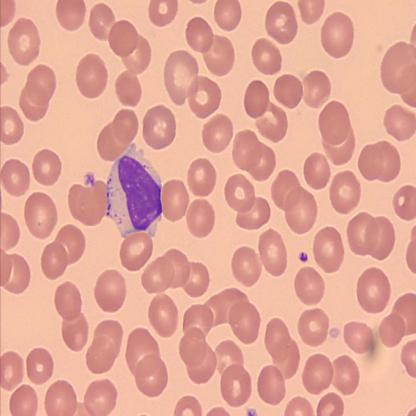Atypical lymphocyte: (106, 143, 163, 235)
